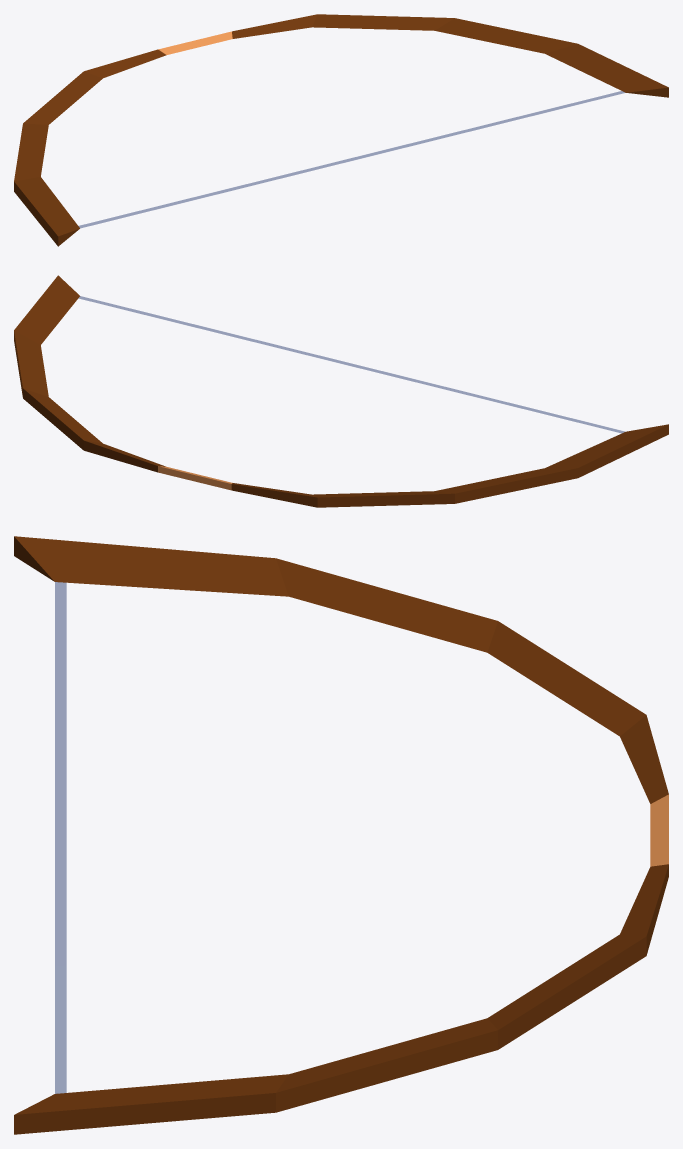
File: Bow.glb
3 renders of one model, top to bottom at view 1: azimuth 30°, elevation 25°; view 2: azimuth 150°, elevation 25°; view 3: azimuth 270°, elevation 25°, orthographic. The views are drawn at different scales.
Parts seen in each view (by area): view 1: Circle; view 2: Circle; view 3: Circle.
Part boxes in pixels (x1,y1,x2,y2): Circle: (14,14,668,246); Circle: (14,275,668,507); Circle: (14,536,668,1134).
Bounding box in the file's own units: 4.24 × 0.0677 × 2.03.
1 material, 1 textured.
